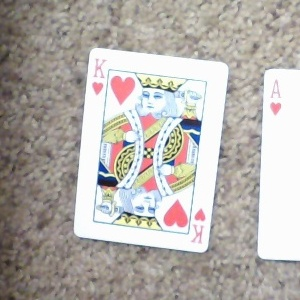card: (71, 46, 229, 254)
